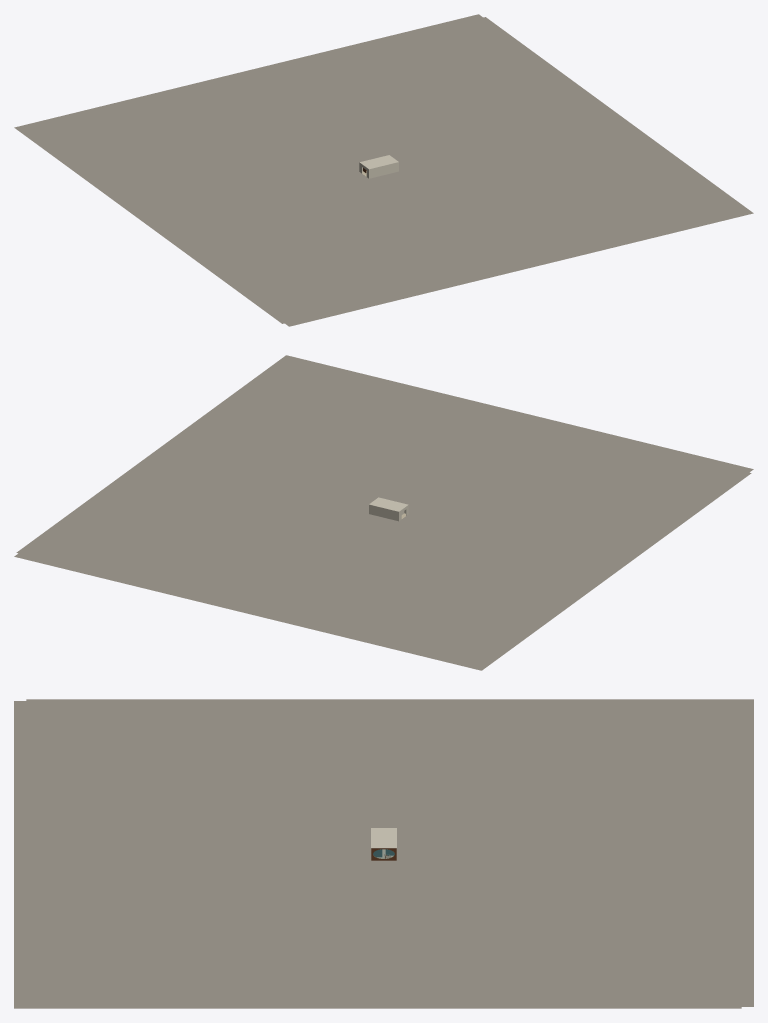
Rendered from StarAtlasSpecialty_539.glb.
The picture shows the model from 3 angles, top to bottom: view 1: azimuth 30°, elevation 25°; view 2: azimuth 150°, elevation 25°; view 3: azimuth 270°, elevation 25°; orthographic projection. The views are drawn at different scales.
Visible parts, largest first — view 1: SA539_ReservedRestSupport_02__Preview_Ground, SA539_ReservedRestSupport_01__Preview_Ground; view 2: SA539_ReservedRestSupport_02__Preview_Ground, SA539_ReservedRestSupport_01__Preview_Ground; view 3: SA539_ReservedRestSupport_01__Preview_Ground, SA539_ReservedRestSupport_02__Preview_Ground, SA539_Ceiling.
Boxes of the visible parts, <box> form: SA539_ReservedRestSupport_02__Preview_Ground: <box>21,17,753,326</box>; SA539_ReservedRestSupport_01__Preview_Ground: <box>14,14,744,323</box>; SA539_ReservedRestSupport_02__Preview_Ground: <box>16,355,753,666</box>; SA539_ReservedRestSupport_01__Preview_Ground: <box>14,359,751,670</box>; SA539_ReservedRestSupport_01__Preview_Ground: <box>26,699,753,1006</box>; SA539_ReservedRestSupport_02__Preview_Ground: <box>14,701,741,1008</box>; SA539_Ceiling: <box>371,828,396,848</box>.
Bounding box in the file's own units: 201 × 4.91 × 203.
69 materials, 43 textured.
